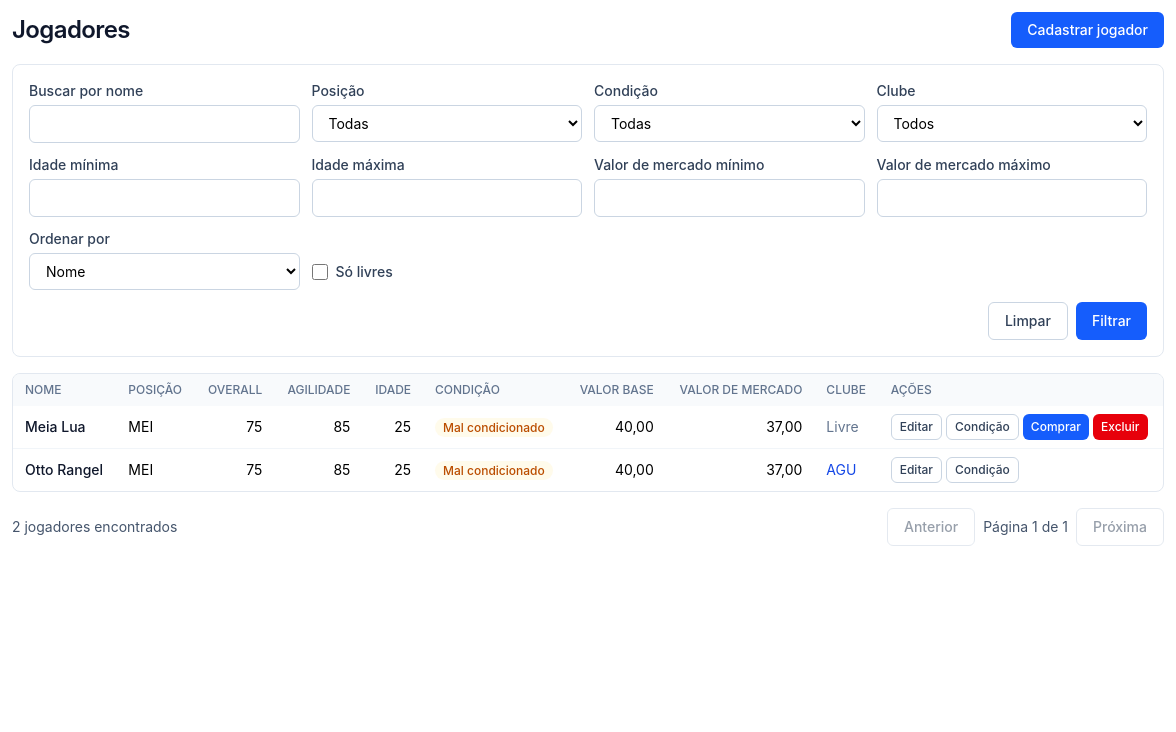
Scenario: PlayersPage › mostra o message da API quando "só livres" vem junto com o clube
Click the checkbox labelled "Só livres": (320, 272) 312,264 -> 328,280
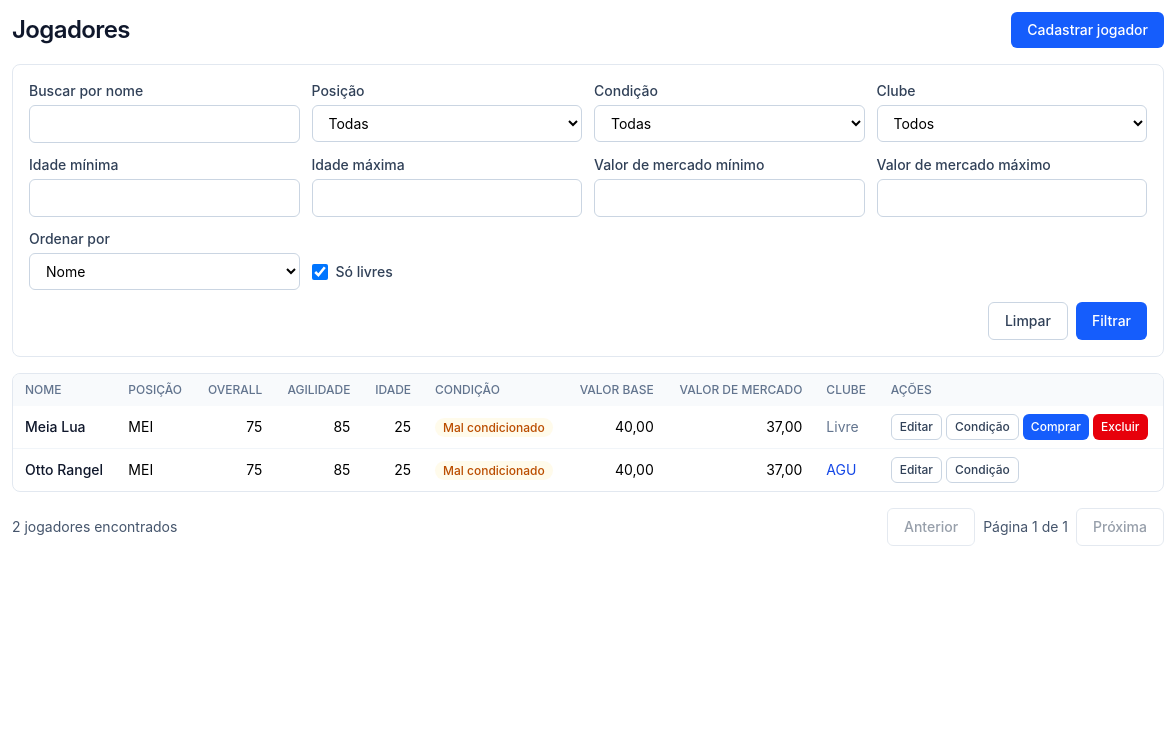
Select "AGU – Águias FC" in the dropdown labelled "Clube": (1012, 124) 876,105 -> 1147,142
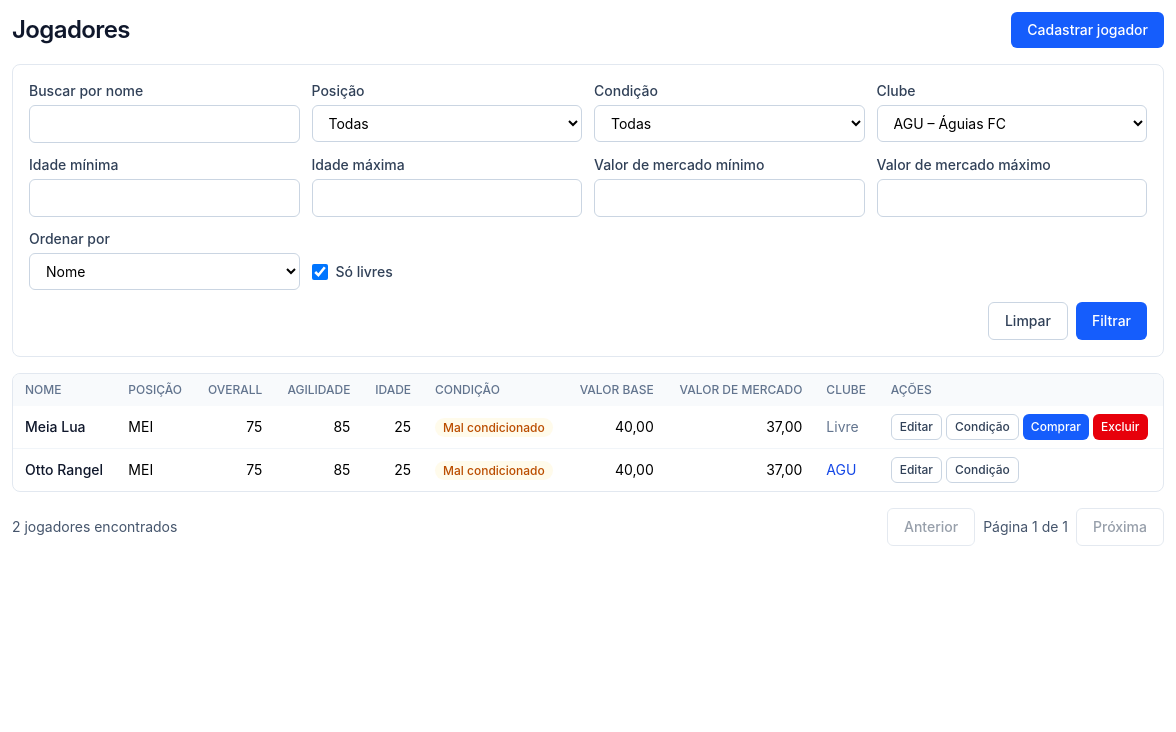
Click the button "Filtrar": (1112, 321) 1076,302 -> 1147,340
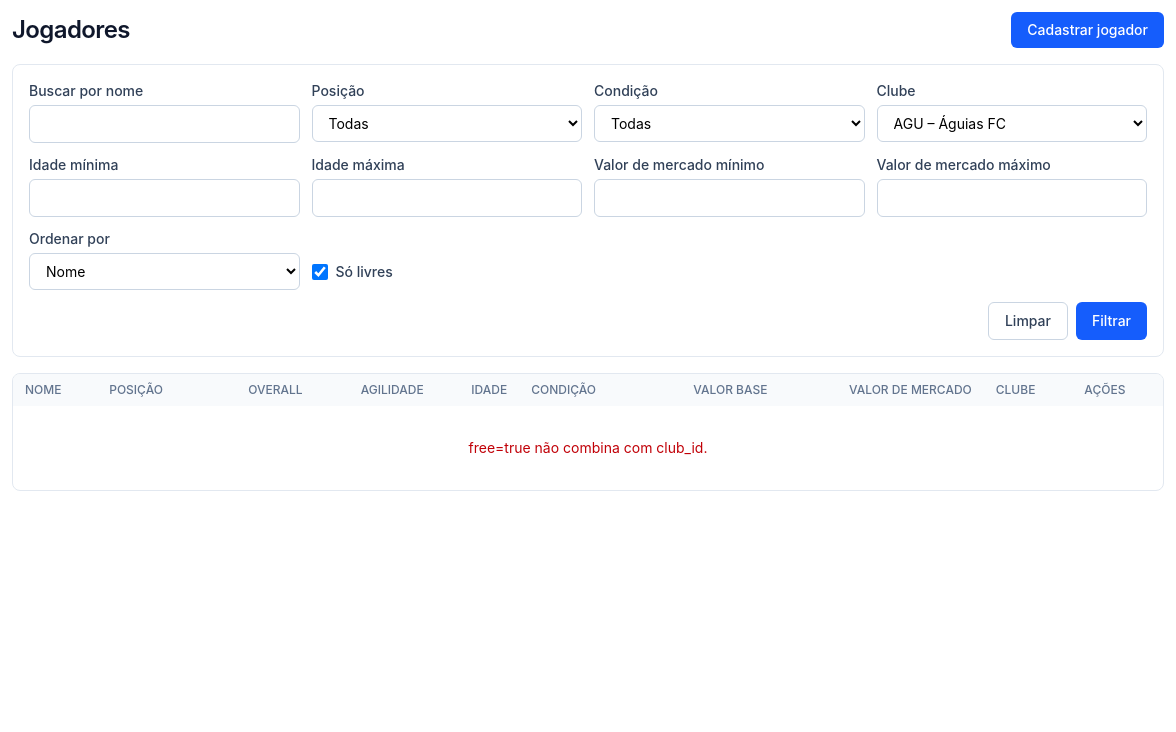
Result: the message reads "free=true não combina com club_id." at 469,439 -> 708,456
